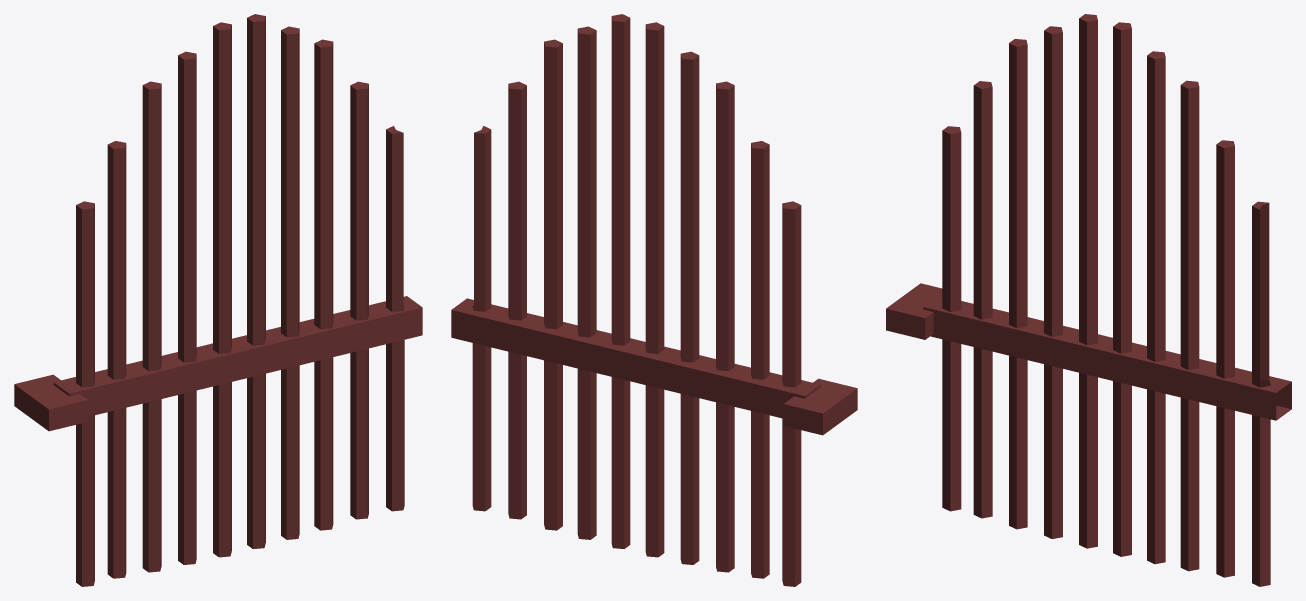
Rendered from porta.fbx.
The picture shows the model from 3 angles, left to right: view 1: azimuth 30°, elevation 25°; view 2: azimuth 150°, elevation 25°; view 3: azimuth 330°, elevation 25°; orthographic projection.
Visible parts, largest first — view 1: pCylinder34, pCube61; view 2: pCylinder34, pCube61; view 3: pCylinder34, pCube61.
Boxes of the visible parts, left/top/right/bottom form: pCylinder34: left=53, top=14, right=422, bottom=586; pCube61: left=14, top=374, right=87, bottom=431; pCylinder34: left=451, top=14, right=820, bottom=586; pCube61: left=783, top=378, right=857, bottom=435; pCylinder34: left=923, top=14, right=1291, bottom=586; pCube61: left=886, top=283, right=942, bottom=339.
Bounding box in the file's own units: 5.22 × 6.87 × 0.8203.
